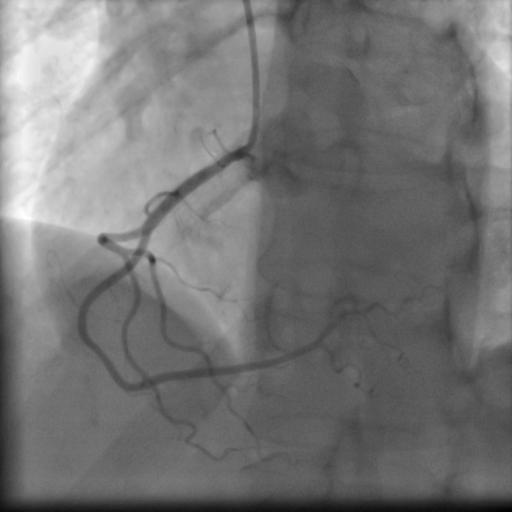Stenosis: (91, 337, 117, 379)
